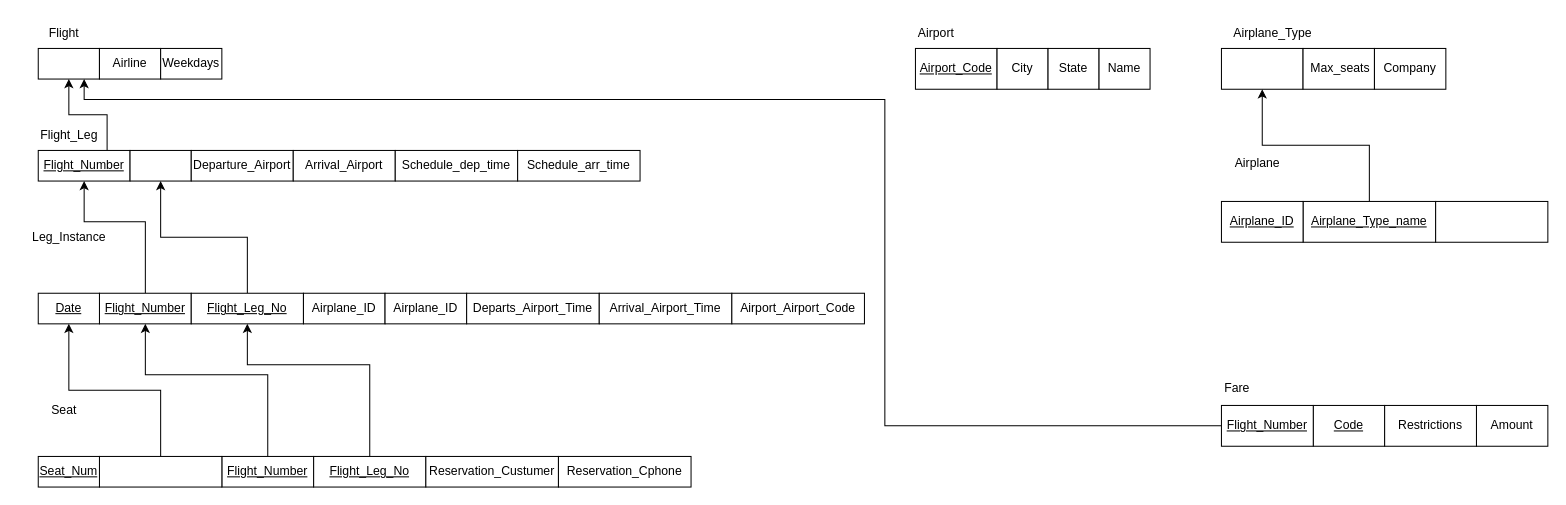
The diagram is 1566 pixels wide and 505 high, and some of its shapes have lost their labels. Each missing label, with the centre of its shape:
Leg_Instance_Date: the point at 160,471
Leg_No: the point at 160,165
Number: the point at 68,63
Total_Num_Seats: the point at 1491,221
Type_name: the point at 1261,68
